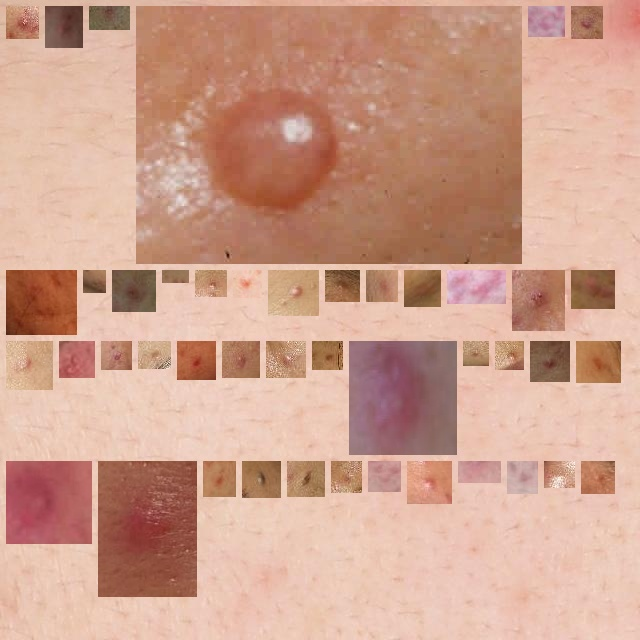papule: (144, 14, 514, 256), (106, 469, 189, 589), (357, 349, 449, 447), (14, 469, 84, 536), (14, 278, 69, 327), (520, 278, 557, 323), (276, 278, 311, 308), (14, 349, 45, 382), (415, 469, 444, 496), (455, 278, 498, 296), (584, 349, 613, 375), (120, 278, 148, 304), (579, 278, 607, 301), (538, 349, 562, 374), (53, 14, 75, 40), (185, 349, 208, 372), (274, 349, 298, 370), (250, 469, 273, 490), (230, 349, 252, 370), (412, 278, 433, 299), (295, 469, 317, 489), (67, 349, 87, 370), (97, 6, 122, 22), (211, 469, 228, 489), (333, 277, 352, 294), (536, 14, 557, 29), (589, 469, 607, 486), (14, 14, 31, 31), (579, 14, 595, 31), (374, 278, 390, 294), (376, 469, 393, 484), (515, 469, 530, 486), (339, 469, 354, 485), (241, 273, 254, 290), (146, 349, 163, 361), (109, 349, 124, 362), (320, 349, 335, 362), (203, 278, 219, 289), (503, 349, 516, 362), (552, 469, 567, 480), (471, 349, 481, 358), (91, 278, 98, 285)
